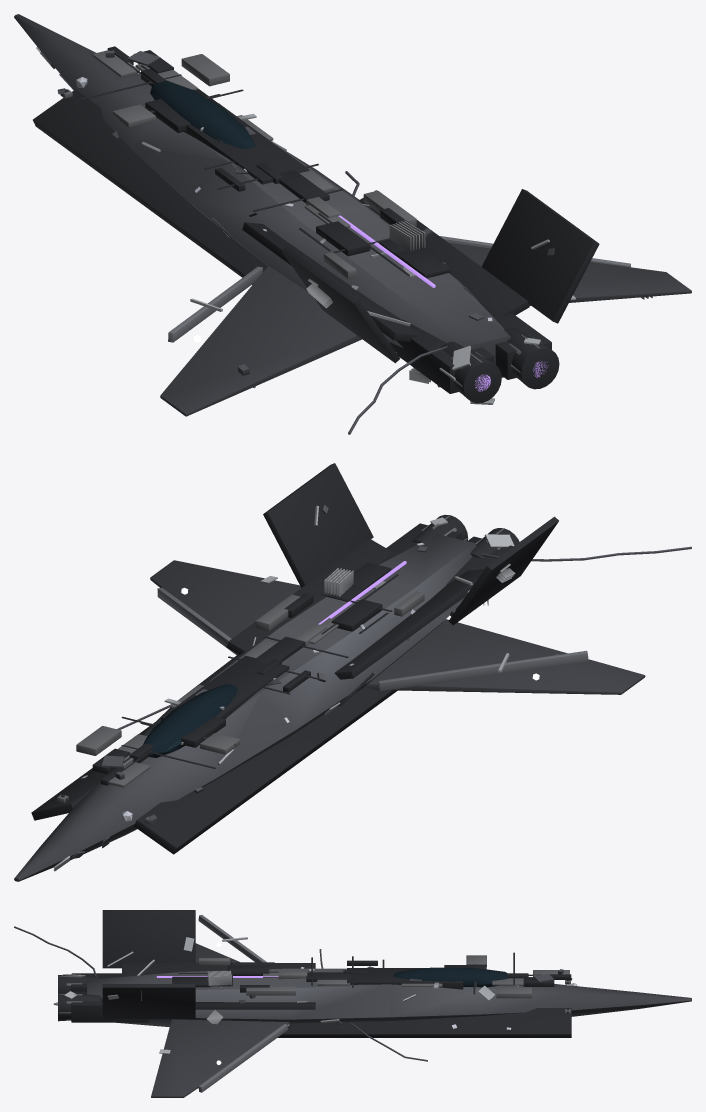
Rendered from ship_specter.glb.
3 views of the same model, one above another, from view 1: azimuth 30°, elevation 25°; view 2: azimuth 150°, elevation 25°; view 3: azimuth 270°, elevation 25° (orthographic). The views are drawn at different scales.
Visible parts, largest first — view 1: Specter; view 2: Specter; view 3: Specter.
Boxes of the visible parts, x1,y1,x2,y2 form: Specter: [14, 14, 691, 434]; Specter: [14, 463, 691, 881]; Specter: [14, 910, 691, 1097].
Bounding box in the file's own units: 9.66 × 2.35 × 17.48.
